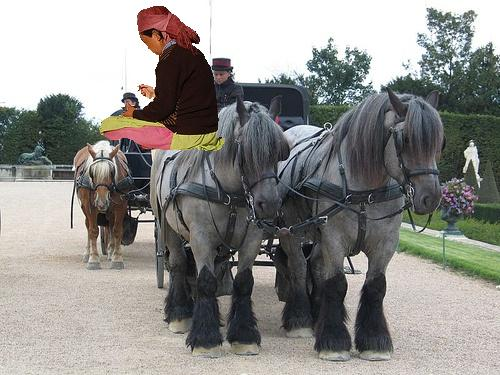tampered: (100, 7, 225, 151)
